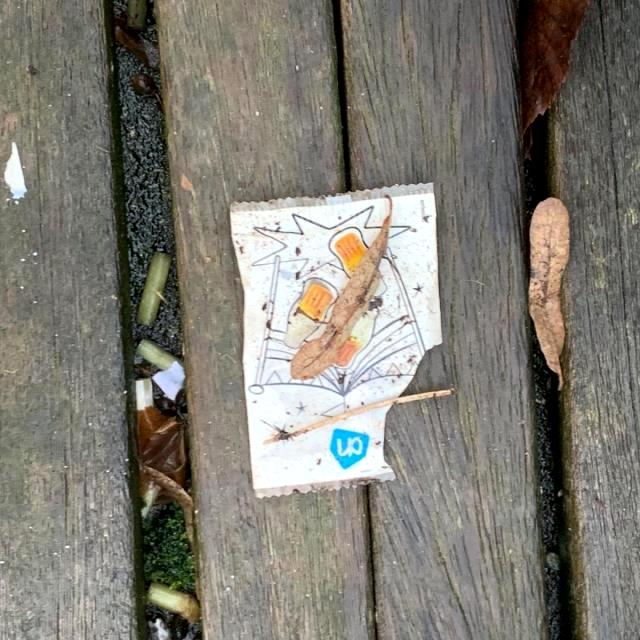Plastic: (224, 178, 448, 502)
